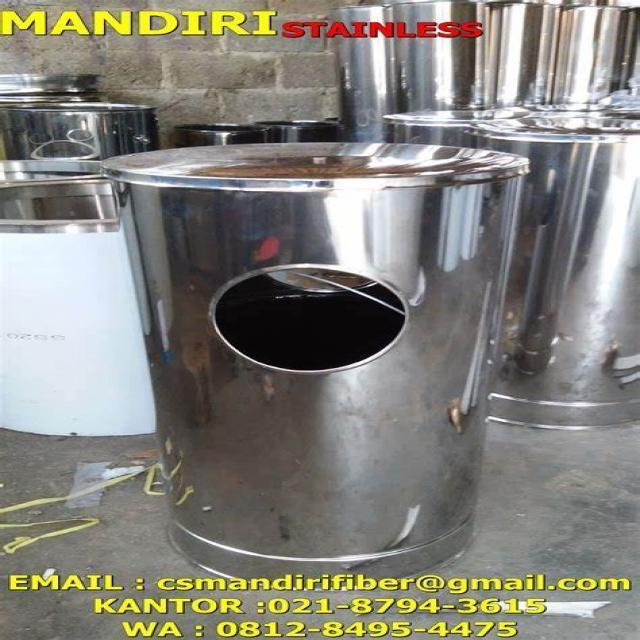garbage container: (90, 129, 500, 573)
